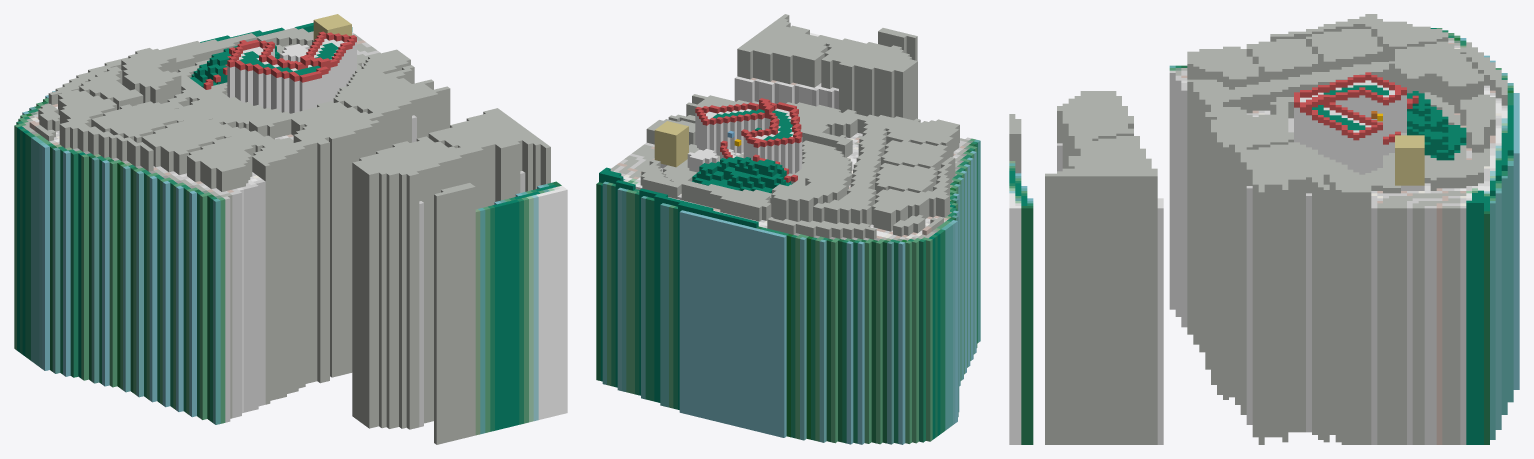
File: 200610 magicvoxel1 backup-9.obj
3 views of the same model, side by side, from view 1: azimuth 30°, elevation 25°; view 2: azimuth 150°, elevation 25°; view 3: azimuth 270°, elevation 25° (orthographic). The views are drawn at different scales.
Bounding box in the file's own units: 7.2 × 5.4 × 8.6.
1 material, 1 textured.
